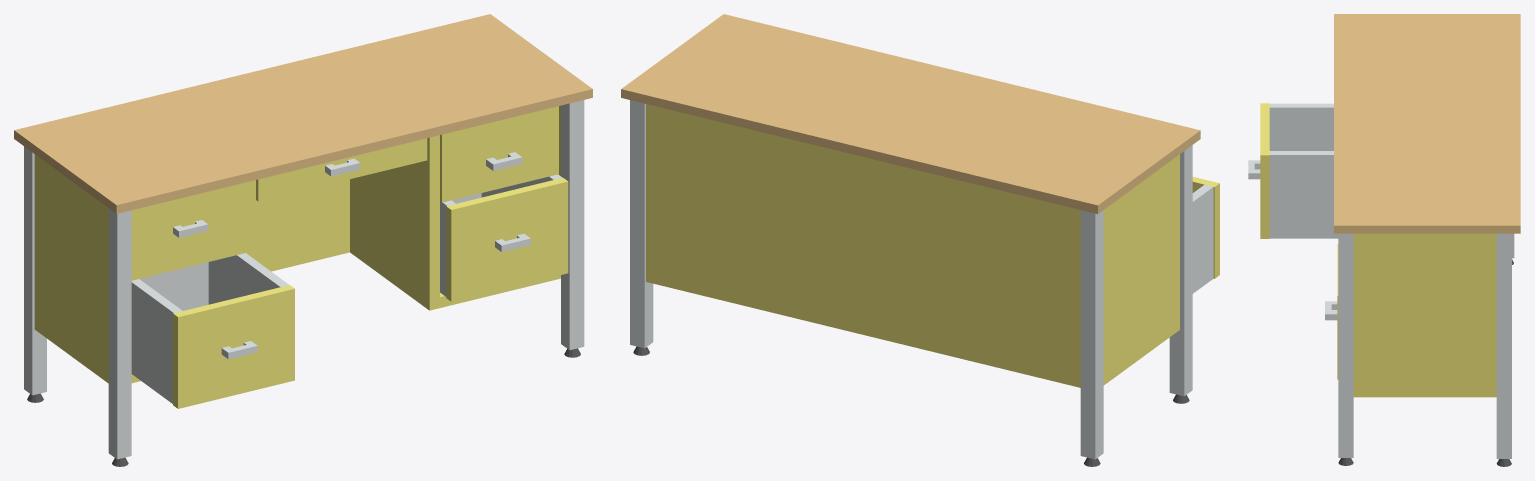
File: desk1a.fbx
3 views of the same model, side by side, from view 1: azimuth 30°, elevation 25°; view 2: azimuth 150°, elevation 25°; view 3: azimuth 270°, elevation 25° (orthographic). The views are drawn at different scales.
Parts seen in each view (by area): view 1: mesh1001655468, mesh1945801892, mesh1647182280, mesh1480470543, mesh296326882, mesh1178923341, mesh1721381423, mesh856145787, mesh1592258980, mesh2066243278, mesh430921715, mesh1224485784; view 2: mesh1592258980, mesh1001655468, mesh1647182280, mesh1178923341, mesh2066243278, mesh1945801892; view 3: mesh1001655468, mesh35120746, mesh1945801892, mesh2066243278, mesh1480470543.
Boxes of the visible parts, x1=… form: mesh1001655468: x1=14, y1=14, x2=592, y2=213; mesh1945801892: x1=131, y1=253, x2=294, y2=408; mesh1647182280: x1=34, y1=154, x2=108, y2=383; mesh1480470543: x1=440, y1=174, x2=568, y2=301; mesh296326882: x1=350, y1=135, x2=439, y2=310; mesh1178923341: x1=24, y1=146, x2=131, y2=466; mesh1721381423: x1=131, y1=182, x2=245, y2=280; mesh856145787: x1=440, y1=106, x2=558, y2=202; mesh1592258980: x1=256, y1=179, x2=349, y2=271; mesh2066243278: x1=561, y1=100, x2=584, y2=357; mesh430921715: x1=256, y1=138, x2=427, y2=201; mesh1224485784: x1=246, y1=180, x2=255, y2=259; mesh1592258980: x1=646, y1=104, x2=1080, y2=387; mesh1001655468: x1=621, y1=14, x2=1200, y2=213; mesh1647182280: x1=1103, y1=154, x2=1179, y2=385; mesh1178923341: x1=1080, y1=145, x2=1192, y2=466; mesh2066243278: x1=630, y1=100, x2=653, y2=355; mesh1945801892: x1=1192, y1=177, x2=1219, y2=293; mesh1001655468: x1=1334, y1=14, x2=1520, y2=233; mesh35120746: x1=1353, y1=233, x2=1496, y2=397; mesh1945801892: x1=1248, y1=103, x2=1338, y2=238; mesh2066243278: x1=1338, y1=233, x2=1511, y2=466; mesh1480470543: x1=1325, y1=244, x2=1338, y2=379.
Size of the model in its own units: 228 by 122 by 124.
